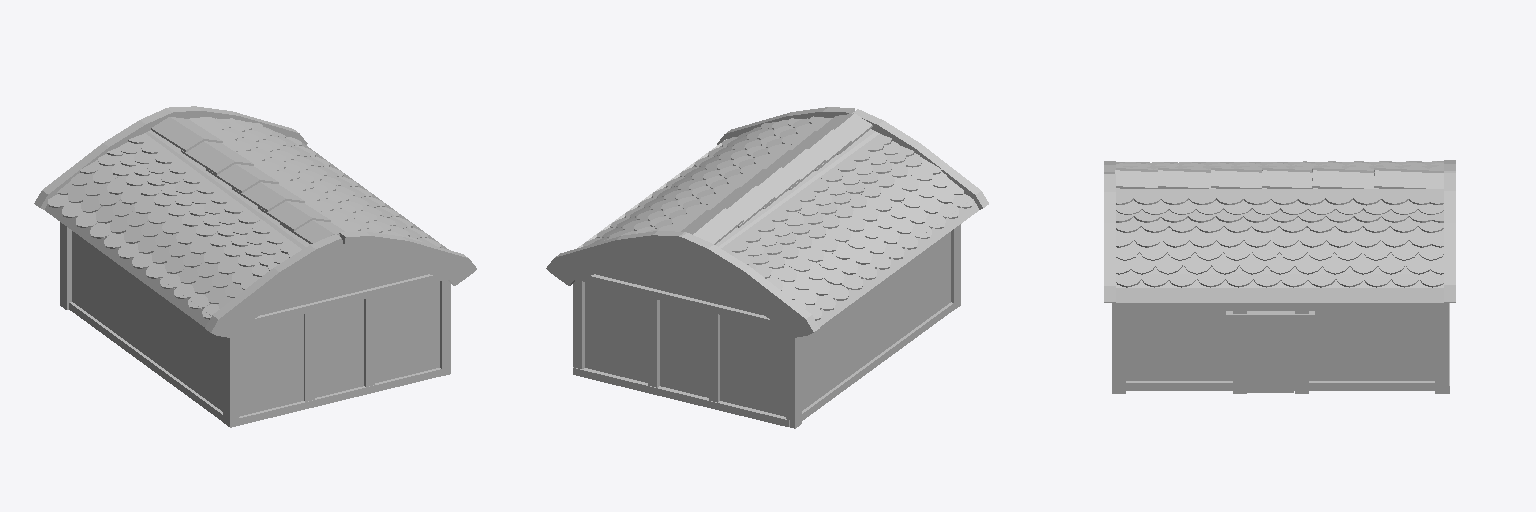
The model's file is MaisonDépart.obj.
3 renders of one model, left to right at view 1: azimuth 30°, elevation 25°; view 2: azimuth 150°, elevation 25°; view 3: azimuth 270°, elevation 25°, orthographic.
Parts seen in each view (by area): view 1: pCube228; view 2: pCube228; view 3: pCube228.
Boxes of the visible parts, box(x1,y1,x2,y2) form: pCube228: box(34, 106, 476, 427); pCube228: box(546, 107, 988, 428); pCube228: box(1104, 160, 1455, 393).
Bounding box in the file's own units: 2.8 × 1.68 × 3.19.